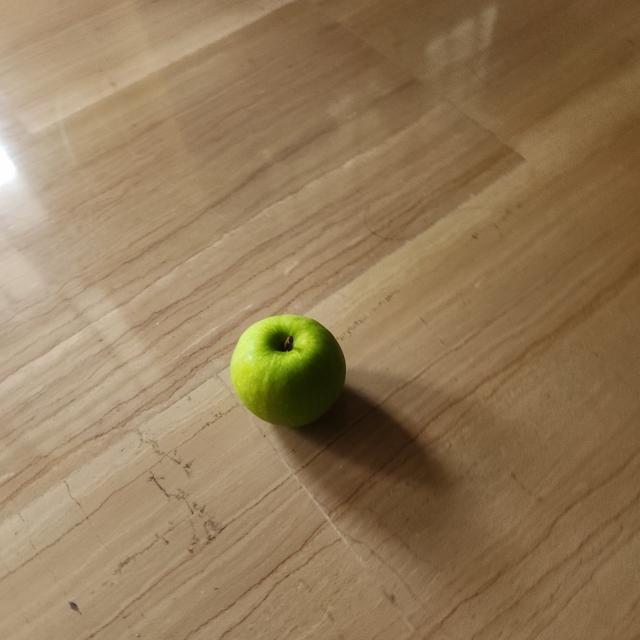apple: (224, 306, 350, 436)
